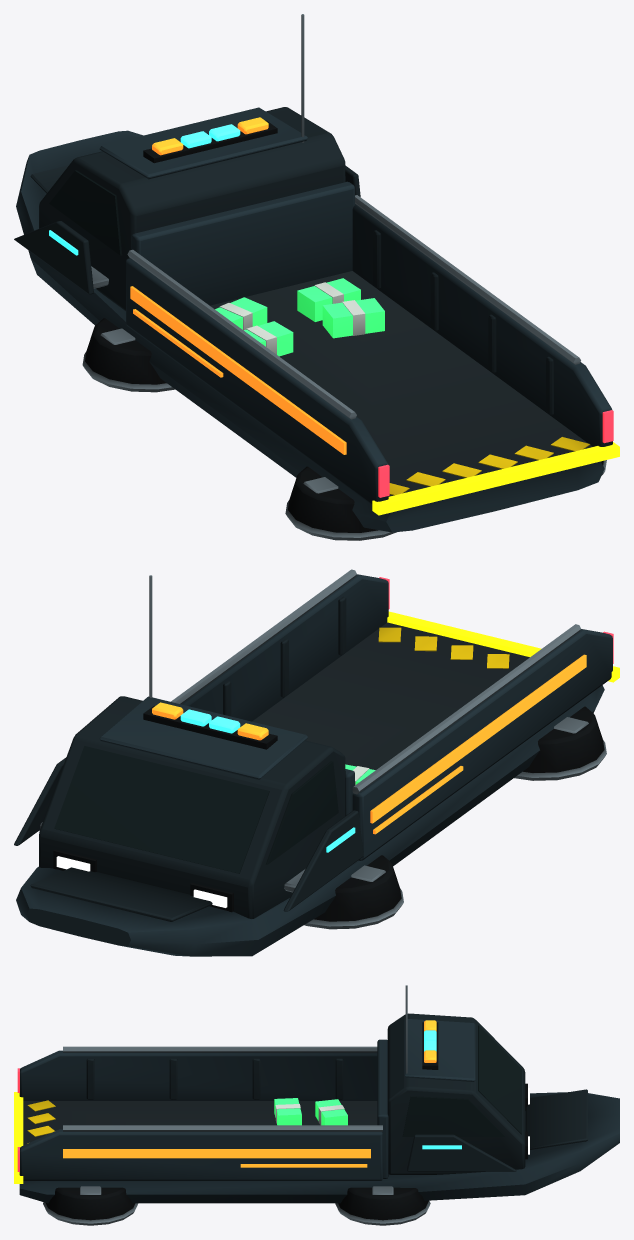
Rendered from getaway_skiff.glb.
3 views of the same model, one above another, from view 1: azimuth 30°, elevation 25°; view 2: azimuth 150°, elevation 25°; view 3: azimuth 270°, elevation 25° (orthographic). The views are drawn at different scales.
Visible parts, largest first — view 1: Skiff; view 2: Skiff; view 3: Skiff.
Part boxes in pixels (x1=…): Skiff: x1=14, y1=14, x2=619, y2=540; Skiff: x1=14, y1=569, x2=619, y2=956; Skiff: x1=14, y1=985, x2=619, y2=1225.
Bounding box in the file's own units: 3.21 × 3 × 7.67.
Materials: 1 (1 with a texture image).
